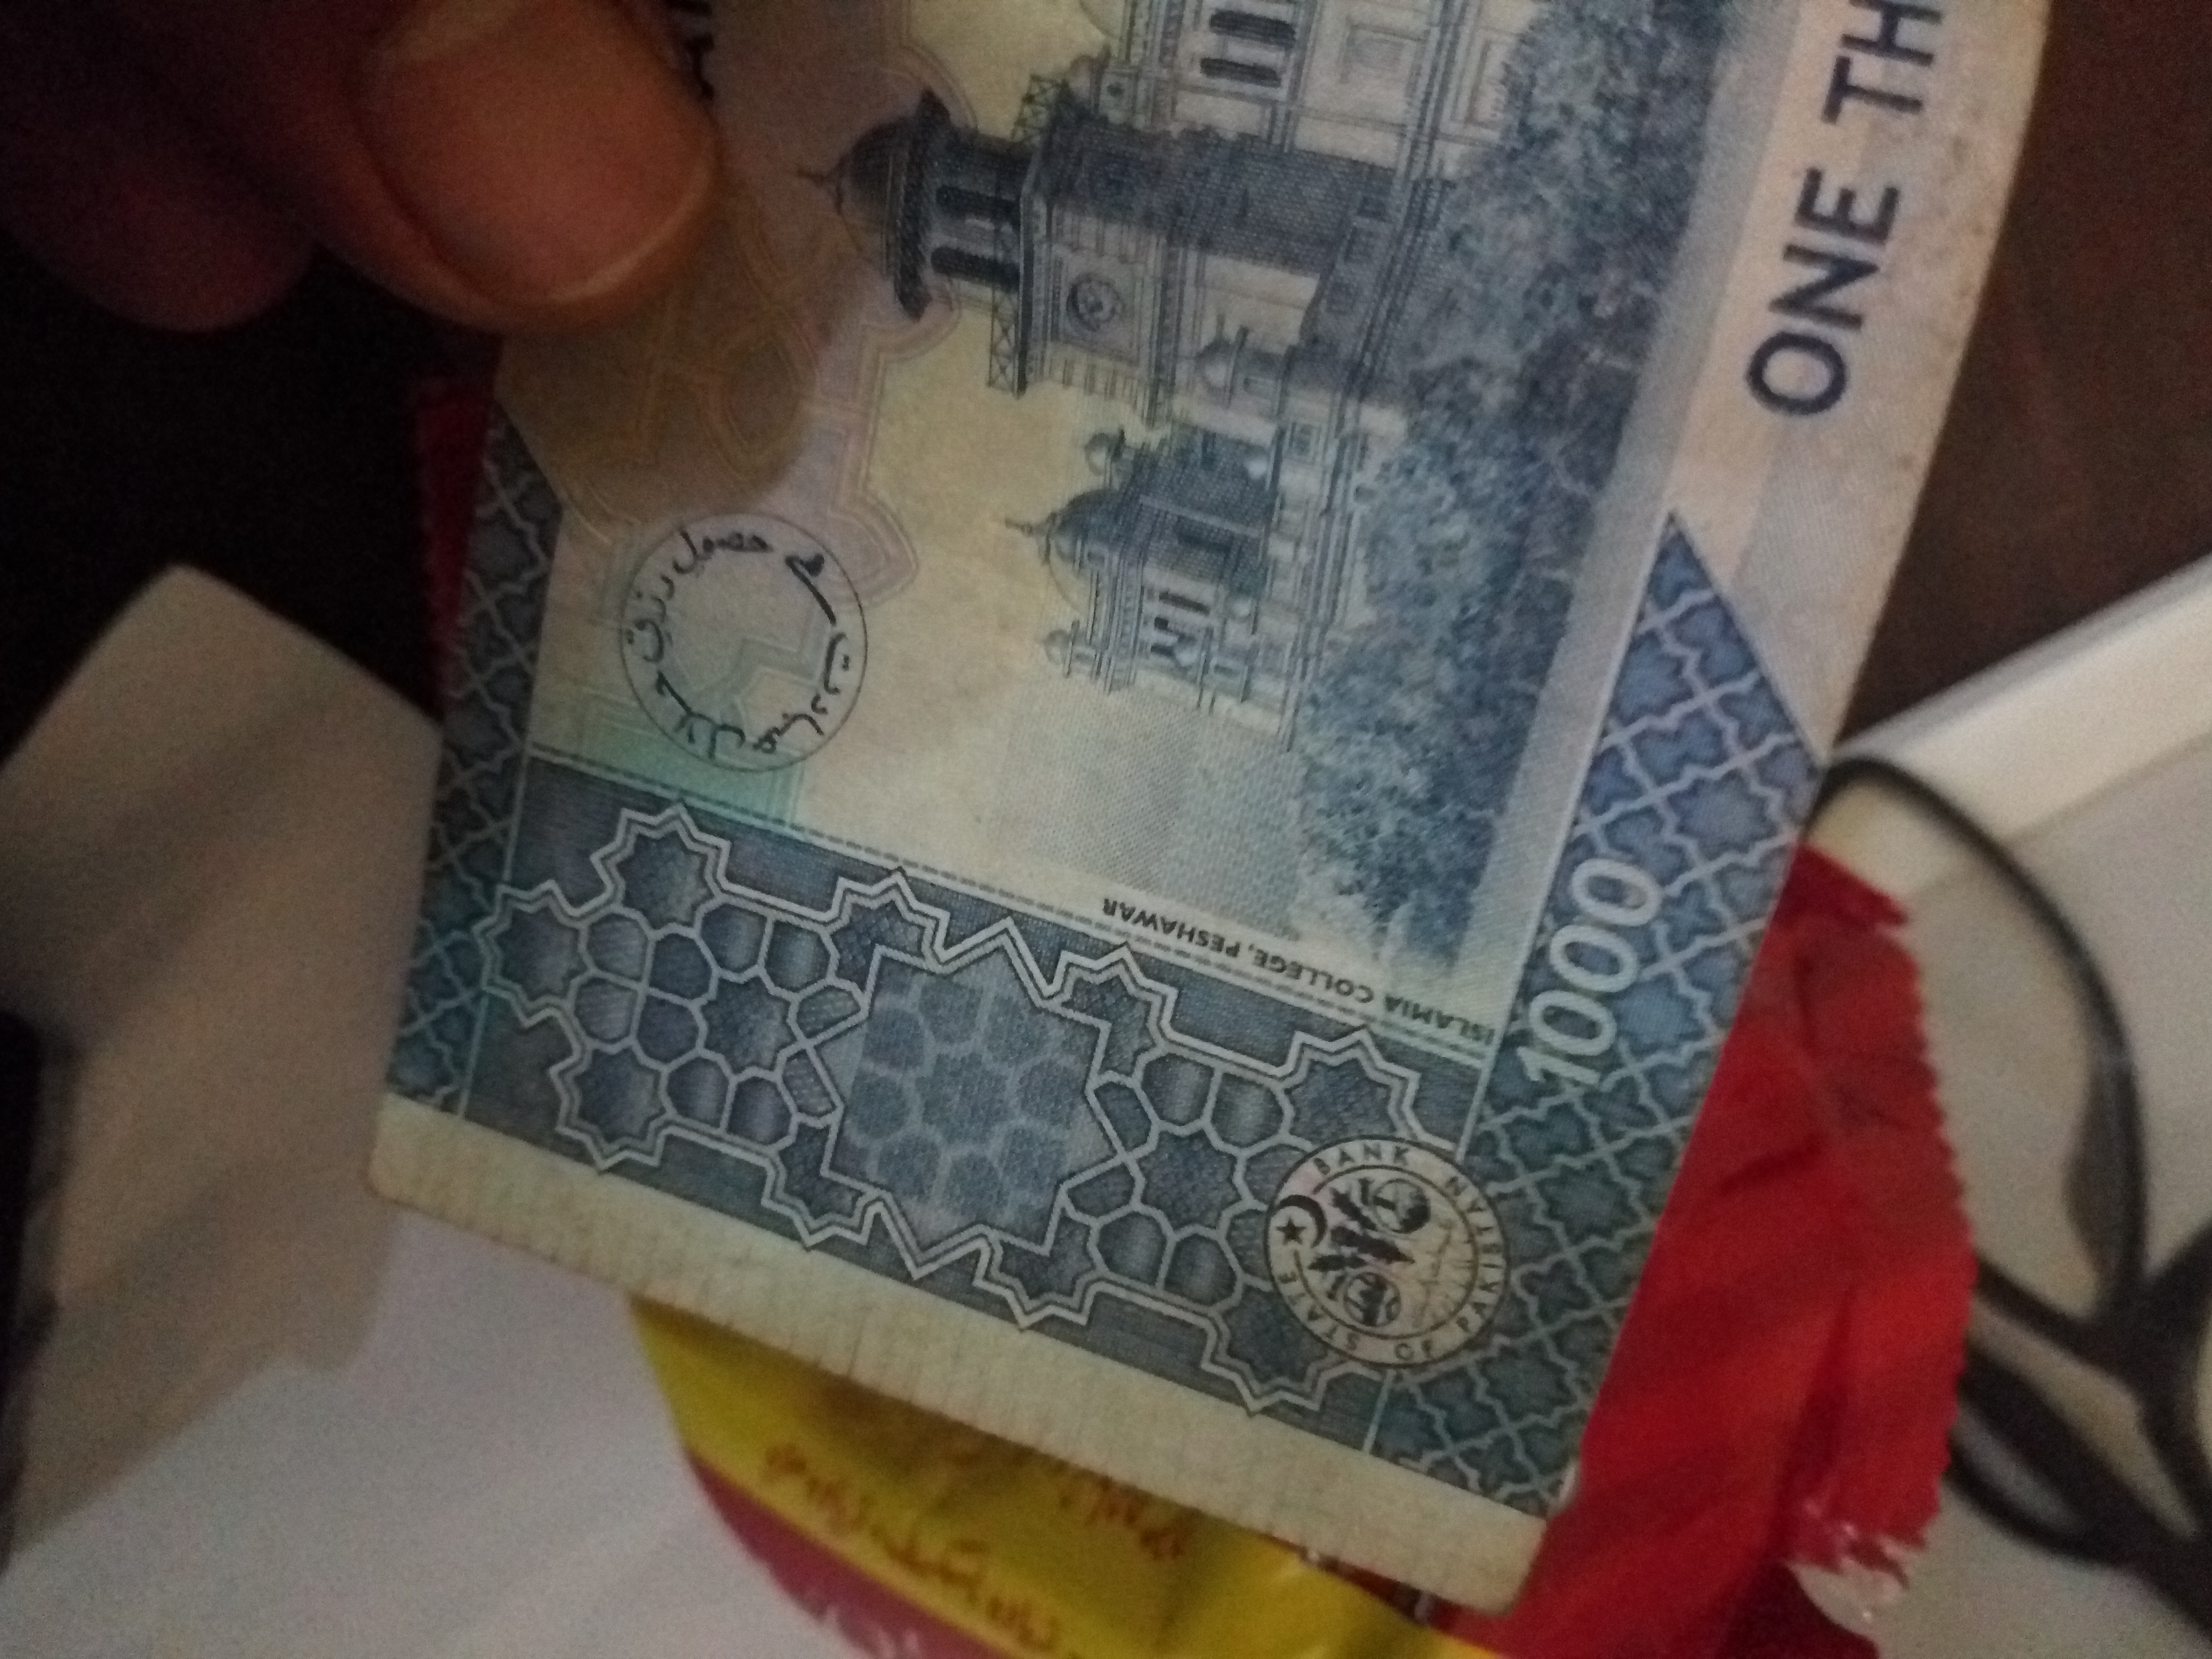1000 rupee: (336, 71, 2041, 1638)
